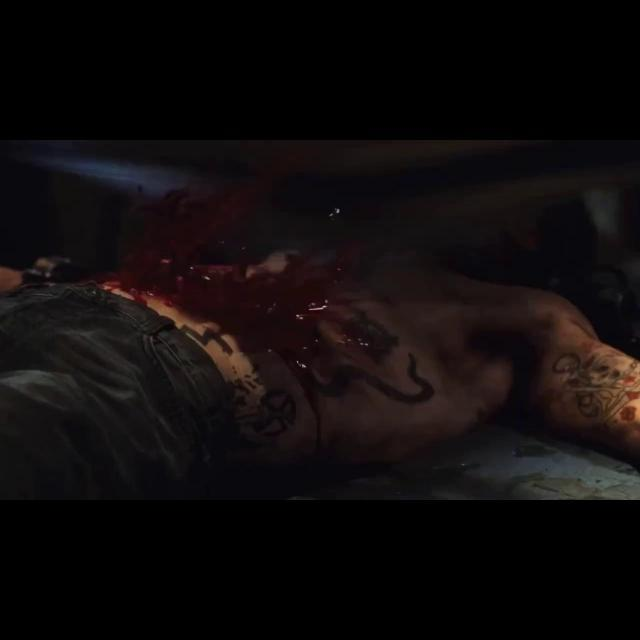blood: (118, 190, 432, 443)
